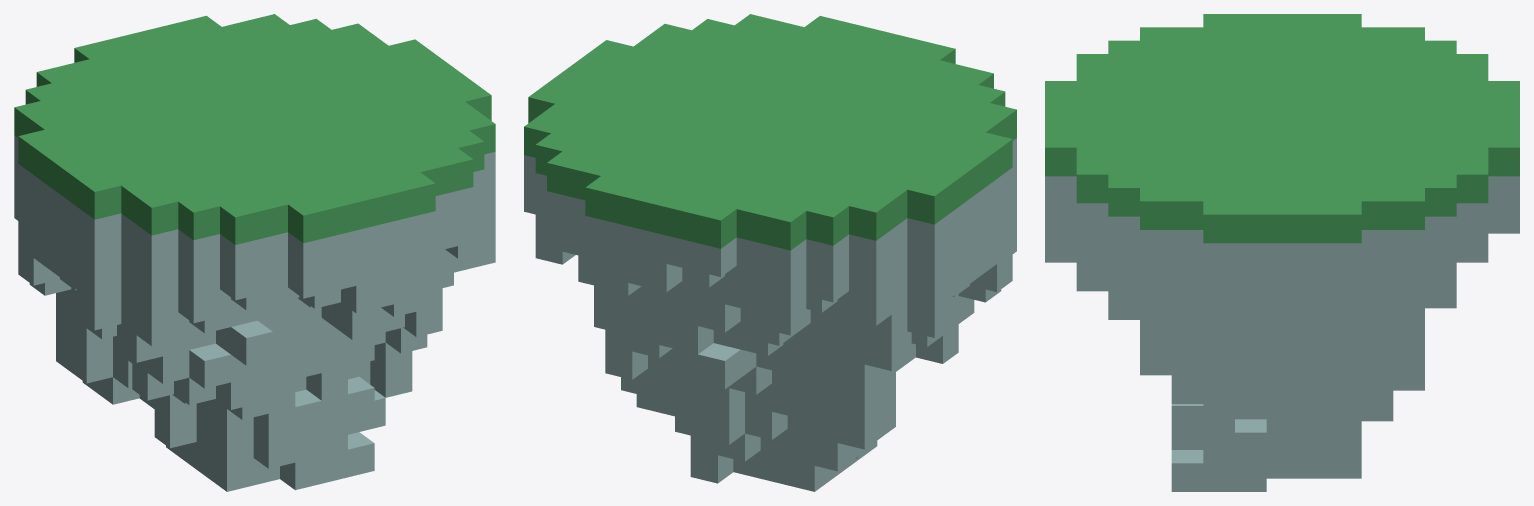
Rendered from FloatingPlatform1.obj.
The picture shows the model from 3 angles, left to right: view 1: azimuth 30°, elevation 25°; view 2: azimuth 150°, elevation 25°; view 3: azimuth 270°, elevation 25°; orthographic projection. The views are drawn at different scales.
Parts seen in each view (by area): view 1: FloatingPlatform1; view 2: FloatingPlatform1; view 3: FloatingPlatform1.
Boxes of the visible parts, left/top/right/bottom form: FloatingPlatform1: left=14, top=14, right=495, bottom=491; FloatingPlatform1: left=524, top=14, right=1016, bottom=491; FloatingPlatform1: left=1045, top=14, right=1519, bottom=491.
Size of the model in its own units: 15 by 12 by 15.
Materials: 1 (1 with a texture image).
